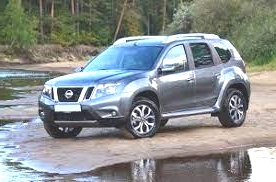car: (28, 25, 254, 152)
